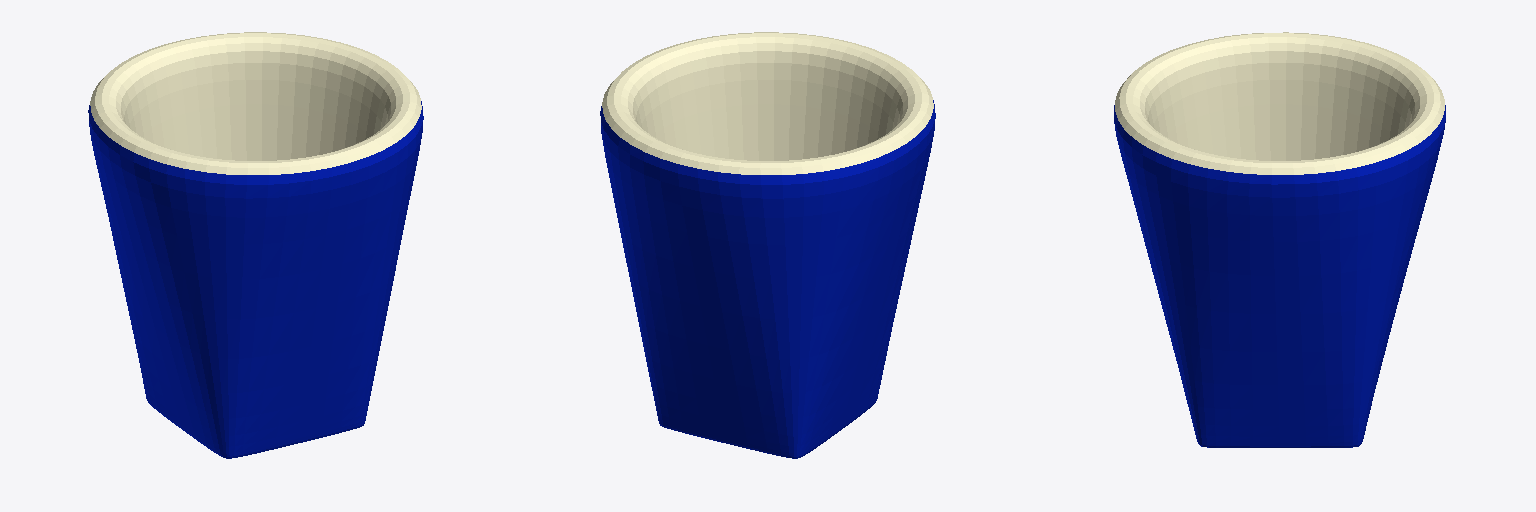
The model's file is markcup.obj.
3 renders of one model, left to right at view 1: azimuth 30°, elevation 25°; view 2: azimuth 150°, elevation 25°; view 3: azimuth 270°, elevation 25°, orthographic.
Parts seen in each view (by area): view 1: Plane; view 2: Plane; view 3: Plane.
Boxes of the visible parts, x1=… form: Plane: x1=88, y1=32, x2=423, y2=458; Plane: x1=600, y1=32, x2=935, y2=458; Plane: x1=1114, y1=32, x2=1445, y2=447.
Size of the model in its own units: 2.41 by 2.52 by 2.41.